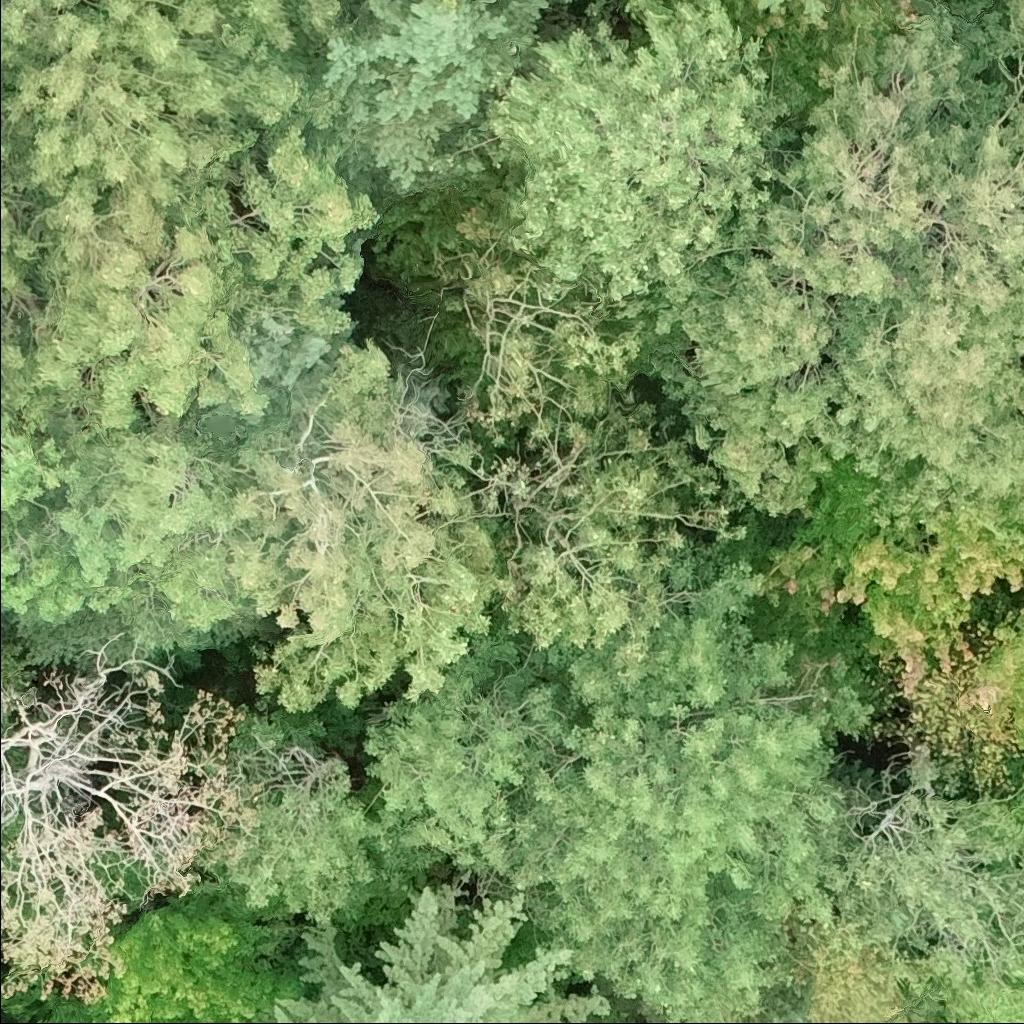crown: (360, 557, 877, 1023), (637, 0, 1023, 536), (29, 340, 519, 714), (0, 0, 386, 431), (440, 240, 752, 684), (452, 0, 800, 320), (757, 457, 1023, 695), (251, 871, 619, 1023), (814, 756, 1023, 1023), (313, 0, 549, 200), (46, 874, 317, 1023), (0, 383, 139, 622), (218, 774, 389, 946), (191, 310, 350, 457), (786, 920, 951, 1023), (958, 606, 1023, 753), (743, 982, 815, 1023), (793, 0, 831, 23), (584, 1007, 637, 1023), (913, 0, 963, 14), (755, 0, 786, 15), (973, 1015, 1023, 1023), (432, 0, 455, 11)
